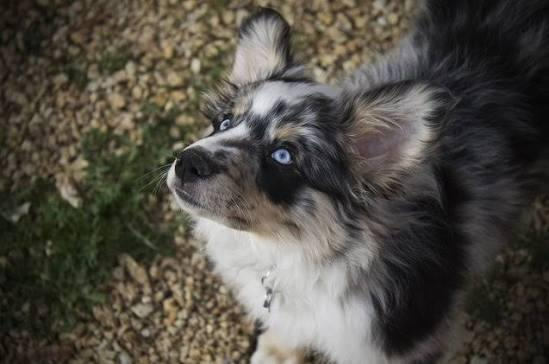puppy-dog: (169, 1, 549, 364)
